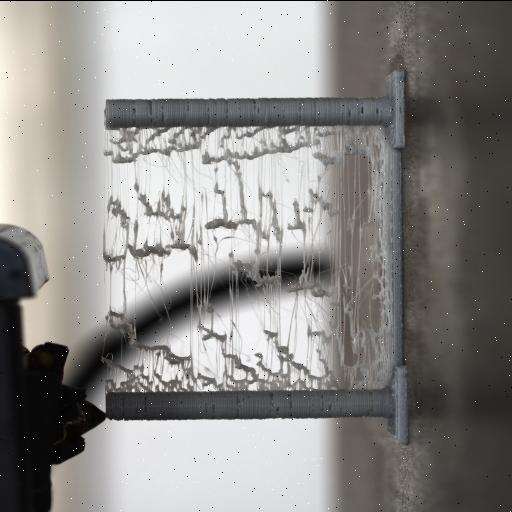stringing: (102, 124, 386, 394)
